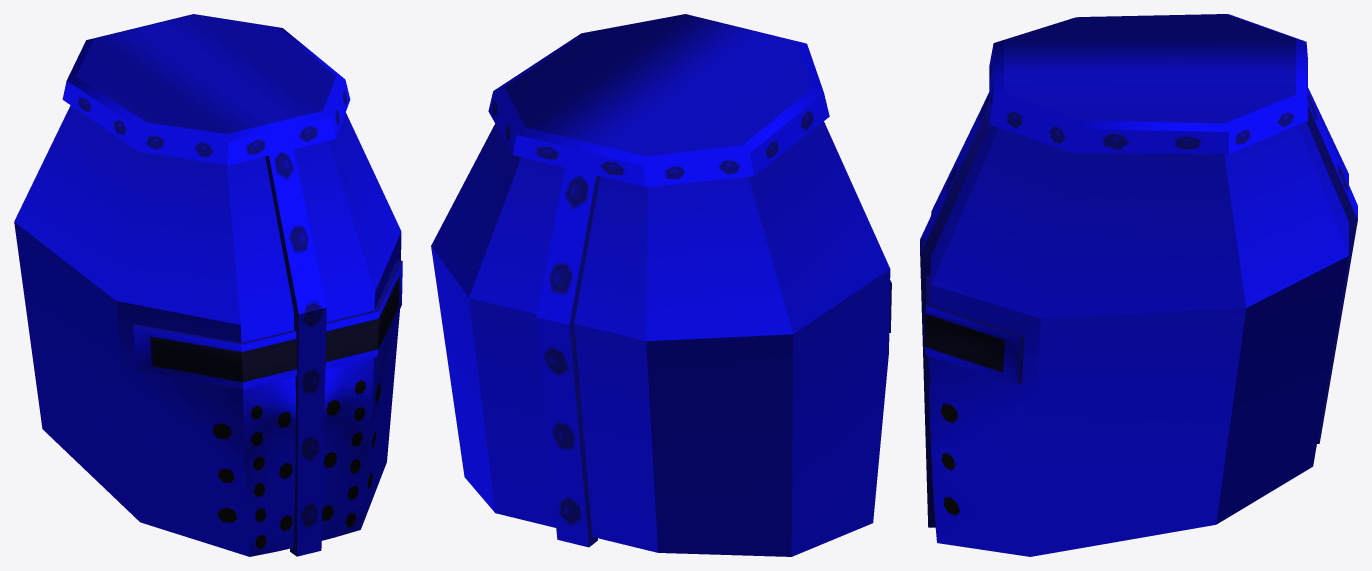
3 views of the same model, side by side, from view 1: azimuth 30°, elevation 25°; view 2: azimuth 150°, elevation 25°; view 3: azimuth 270°, elevation 25° (orthographic). The views are drawn at different scales.
Parts seen in each view (by area): view 1: GreatHelm; view 2: GreatHelm; view 3: GreatHelm.
Boxes of the visible parts, box(x1,y1,x2,y2) form: GreatHelm: box(14, 14, 402, 556); GreatHelm: box(431, 14, 891, 556); GreatHelm: box(920, 14, 1357, 556).
Size of the model in its own units: 0.2457 by 0.3127 by 0.273.
Materials: 1 (1 with a texture image).
